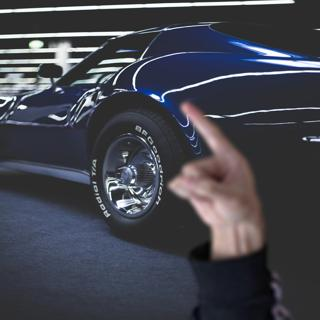IRRITATED: (163, 99, 263, 227)
